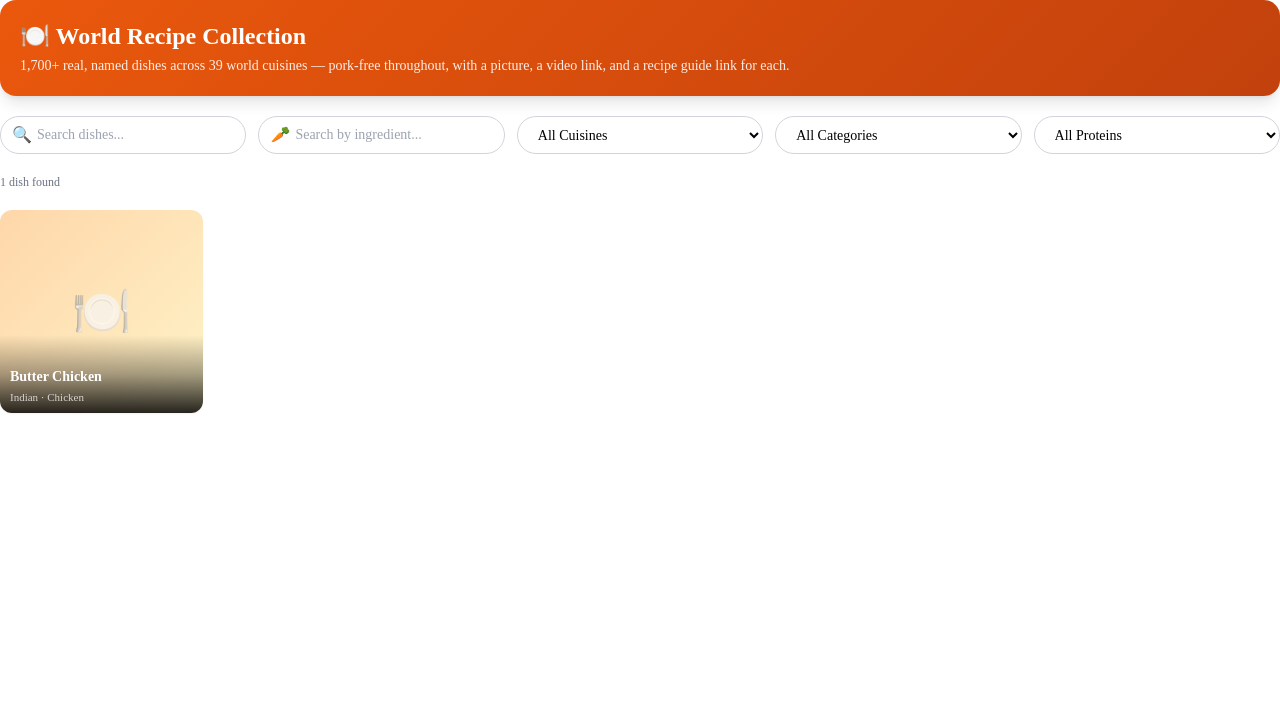
Scenario: RecipeCollection › opens a recipe detail modal with picture, video, and text links plus the historical fact
Click the text "Butter Chicken" at (56, 376), box [10, 369, 102, 384]
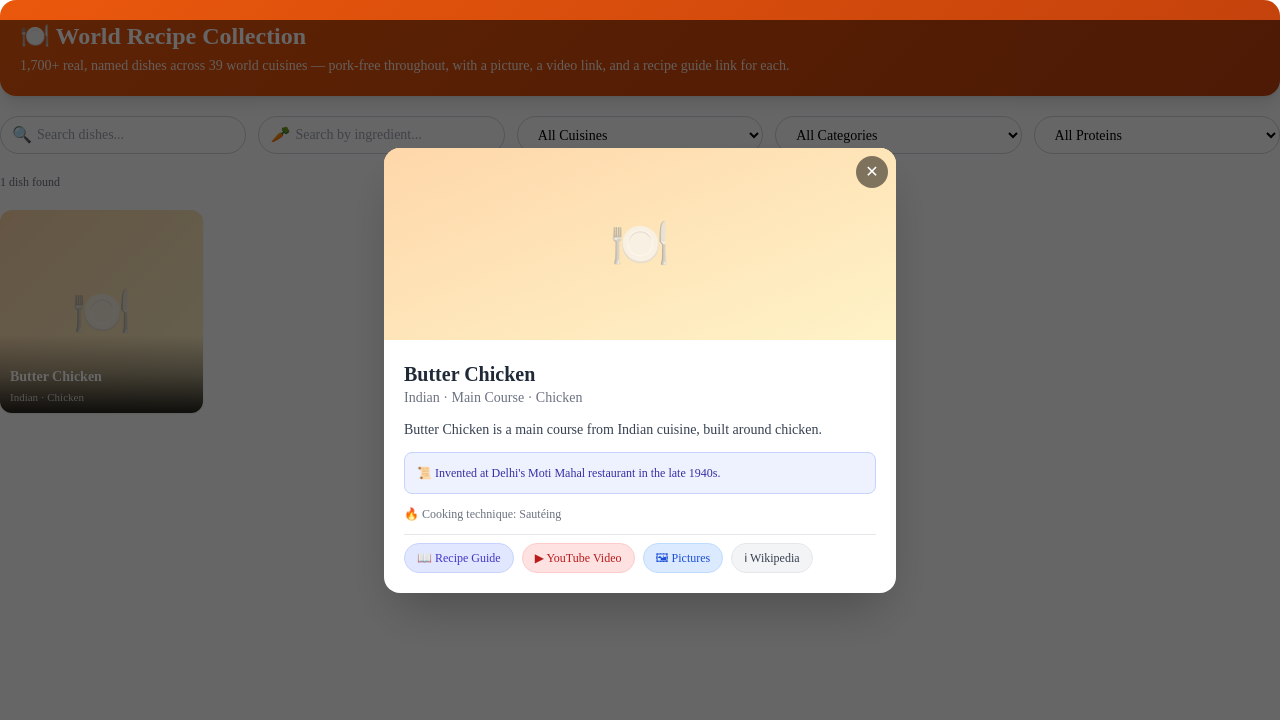
Now the text "Moti Mahal" is shown, box [435, 466, 720, 480]
Now the link "▶ YouTube Video" is shown, box [522, 542, 634, 572]
Now the link "🖼 Pictures" is shown, box [642, 542, 723, 572]
